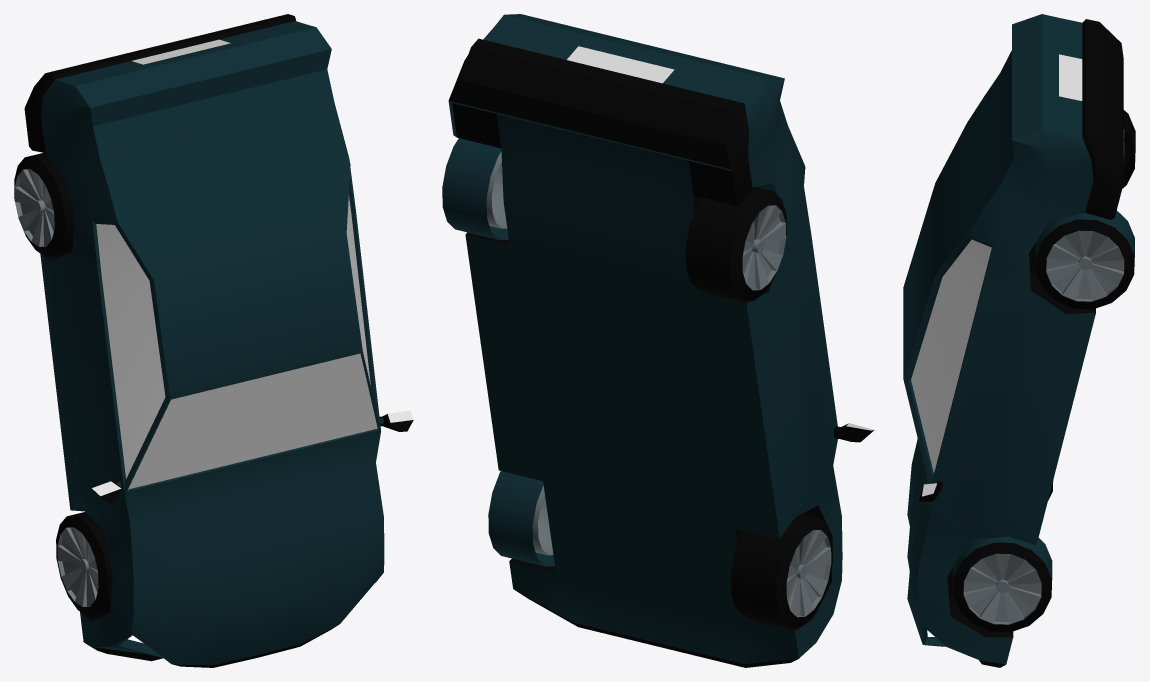
The model's file is torso.glb.
The picture shows the model from 3 angles, left to right: view 1: azimuth 30°, elevation 25°; view 2: azimuth 150°, elevation 25°; view 3: azimuth 270°, elevation 25°; orthographic projection. The views are drawn at different scales.
Parts seen in each view (by area): view 1: Low Poly Sports Car; view 2: Low Poly Sports Car; view 3: Low Poly Sports Car.
Part boxes in pixels (left/top/right/bottom): Low Poly Sports Car: left=14, top=14, right=413, bottom=667; Low Poly Sports Car: left=442, top=14, right=874, bottom=667; Low Poly Sports Car: left=903, top=14, right=1135, bottom=667.
Size of the model in its own units: 0.5075 by 0.8603 by 0.326.
